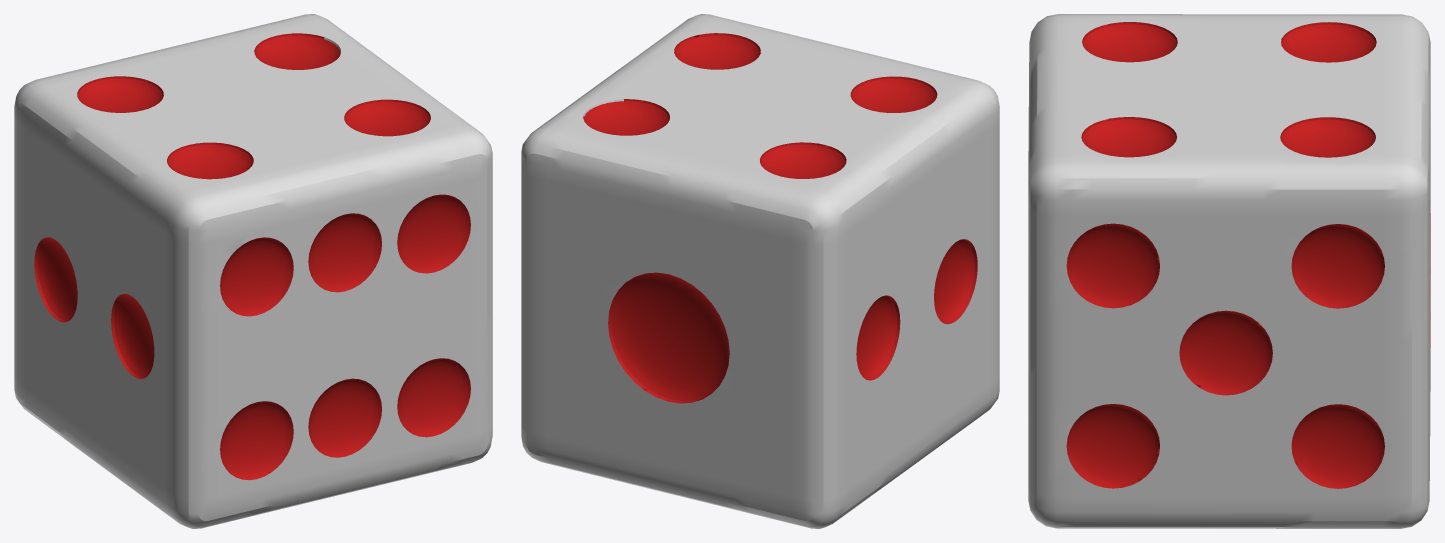
File: Dice.fbx
The picture shows the model from 3 angles, left to right: view 1: azimuth 30°, elevation 25°; view 2: azimuth 150°, elevation 25°; view 3: azimuth 270°, elevation 25°; orthographic projection. The views are drawn at different scales.
Parts seen in each view (by area): view 1: Dice; view 2: Dice; view 3: Dice.
Boxes of the visible parts, bbox=[...] form: Dice: bbox=[14, 14, 492, 528]; Dice: bbox=[521, 14, 999, 528]; Dice: bbox=[1028, 14, 1430, 528].
Size of the model in its own units: 100 by 100 by 100.
